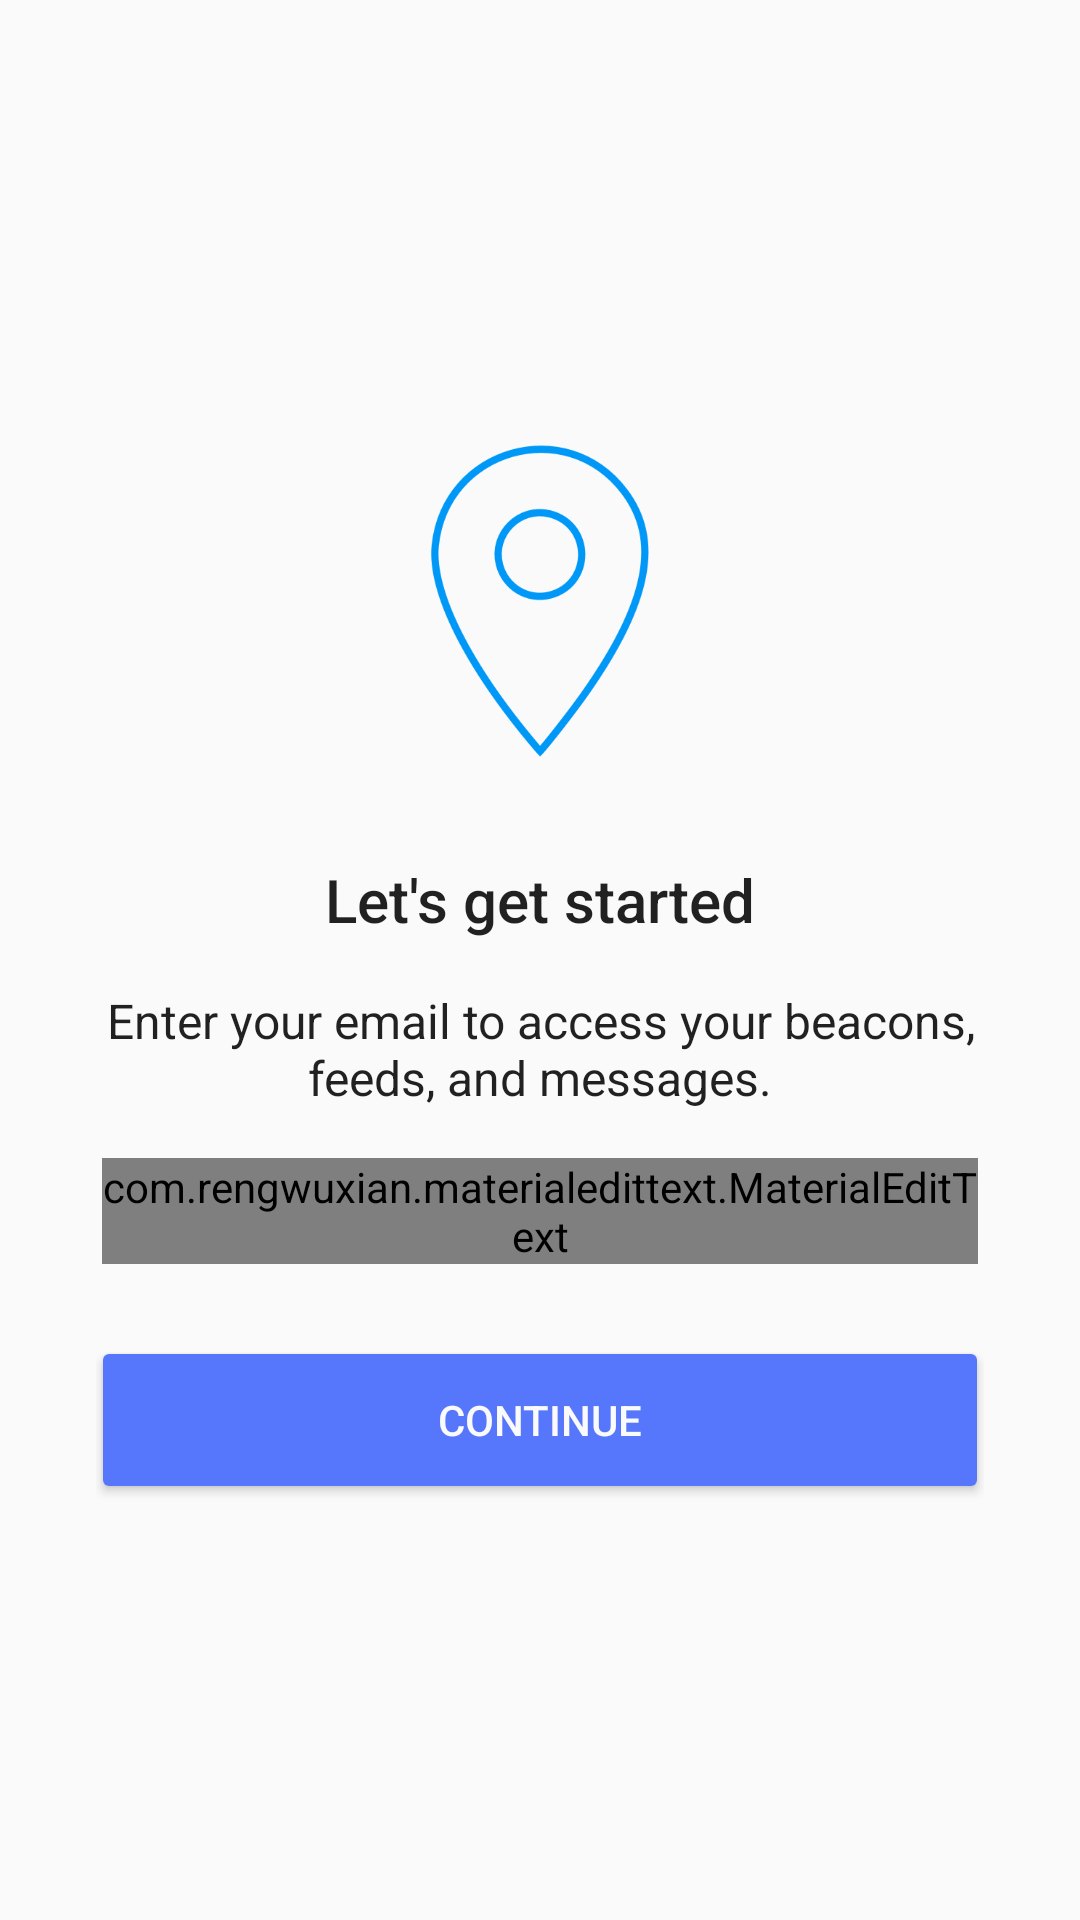

Named icons in this screenshot (1080px x 1920px) and their centers, (x=x, y=y):
pin: (x=540, y=601)
